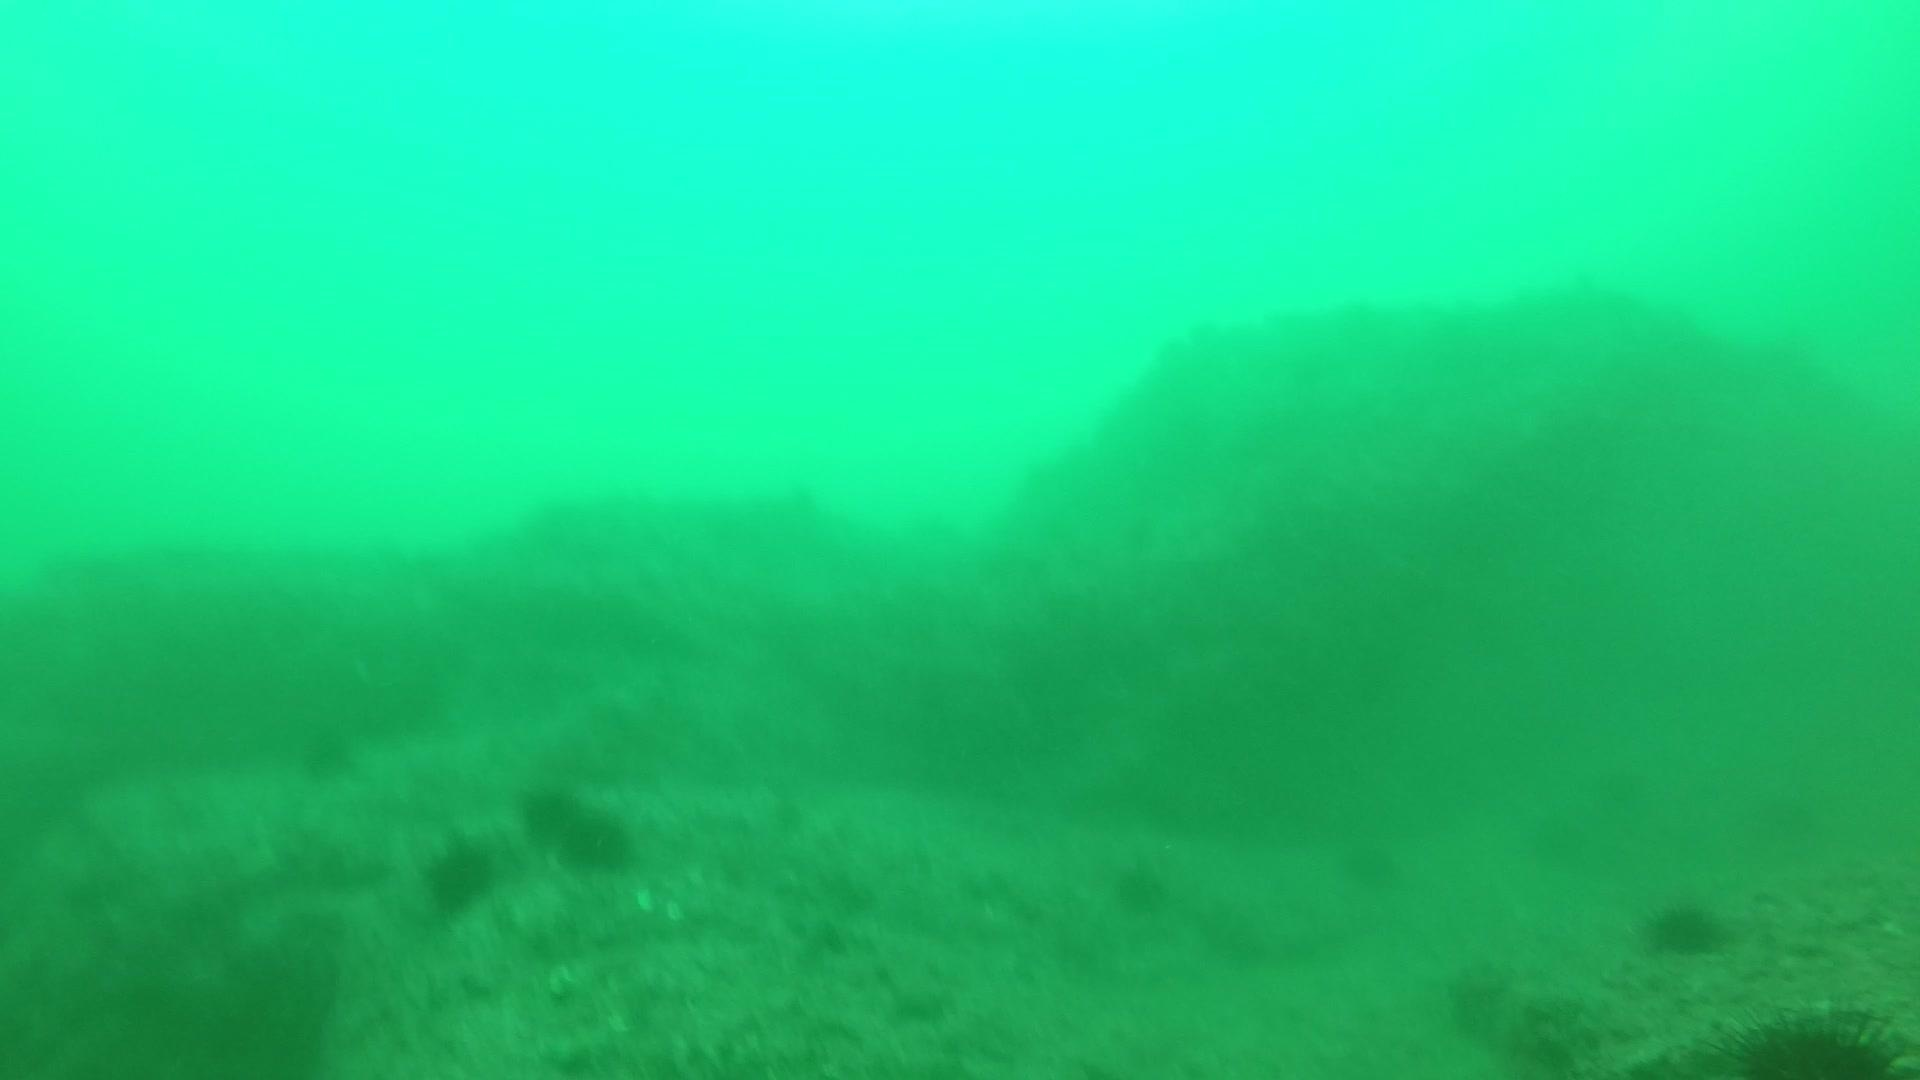echinus: (1714, 1001, 1911, 1077), (417, 831, 502, 918), (1734, 785, 1828, 858), (1639, 891, 1731, 963), (553, 802, 640, 873), (513, 778, 600, 849), (1333, 828, 1407, 894), (1522, 811, 1596, 877), (1592, 756, 1665, 822), (1105, 853, 1176, 919), (291, 719, 363, 785)
